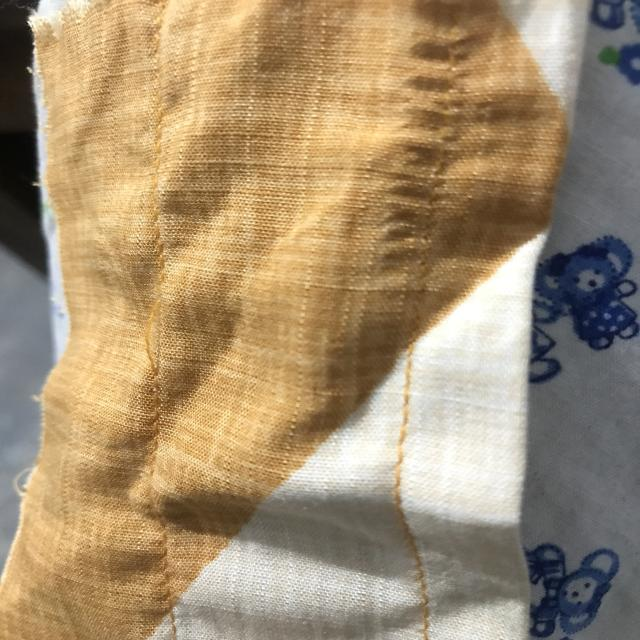skip: (120, 289, 198, 375)
